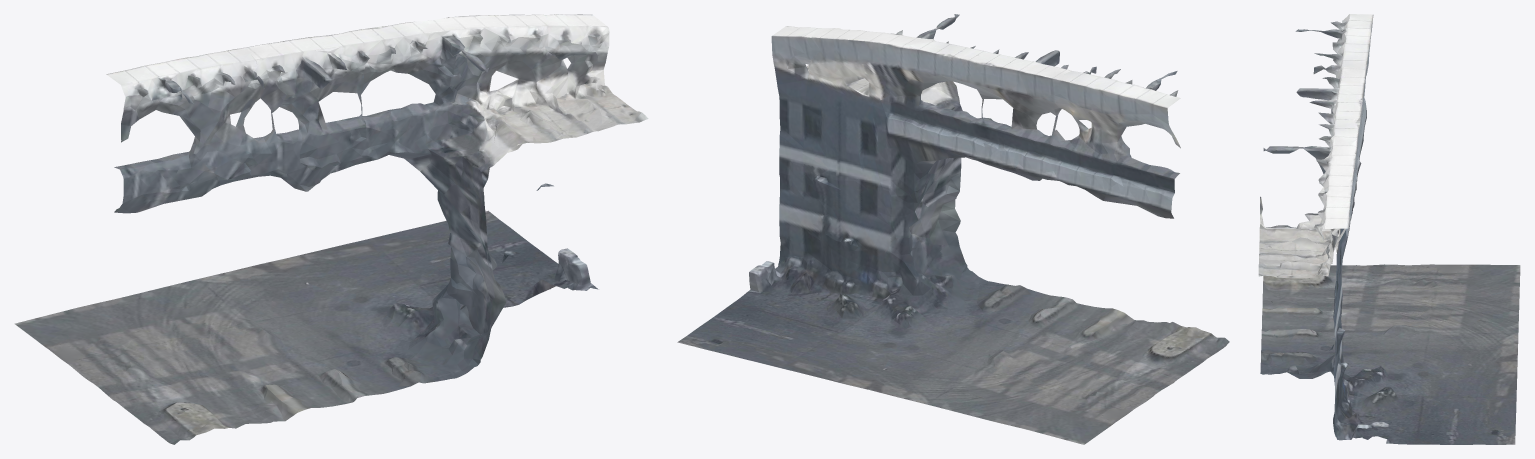
Rendered from Tile_+006_+013_L21_0uuuu20.glb.
3 renders of one model, left to right at view 1: azimuth 30°, elevation 25°; view 2: azimuth 150°, elevation 25°; view 3: azimuth 270°, elevation 25°, orthographic. The views are drawn at different scales.
Visible parts, largest first — view 1: rtc; view 2: rtc; view 3: rtc.
Boxes of the visible parts, x1=… form: rtc: x1=14, y1=14, x2=648, y2=444; rtc: x1=677, y1=14, x2=1229, y2=444; rtc: x1=1258, y1=14, x2=1520, y2=444.
Bounding box in the file's own units: 28.74 × 18.75 × 17.54.
Materials: 1 (1 with a texture image).
